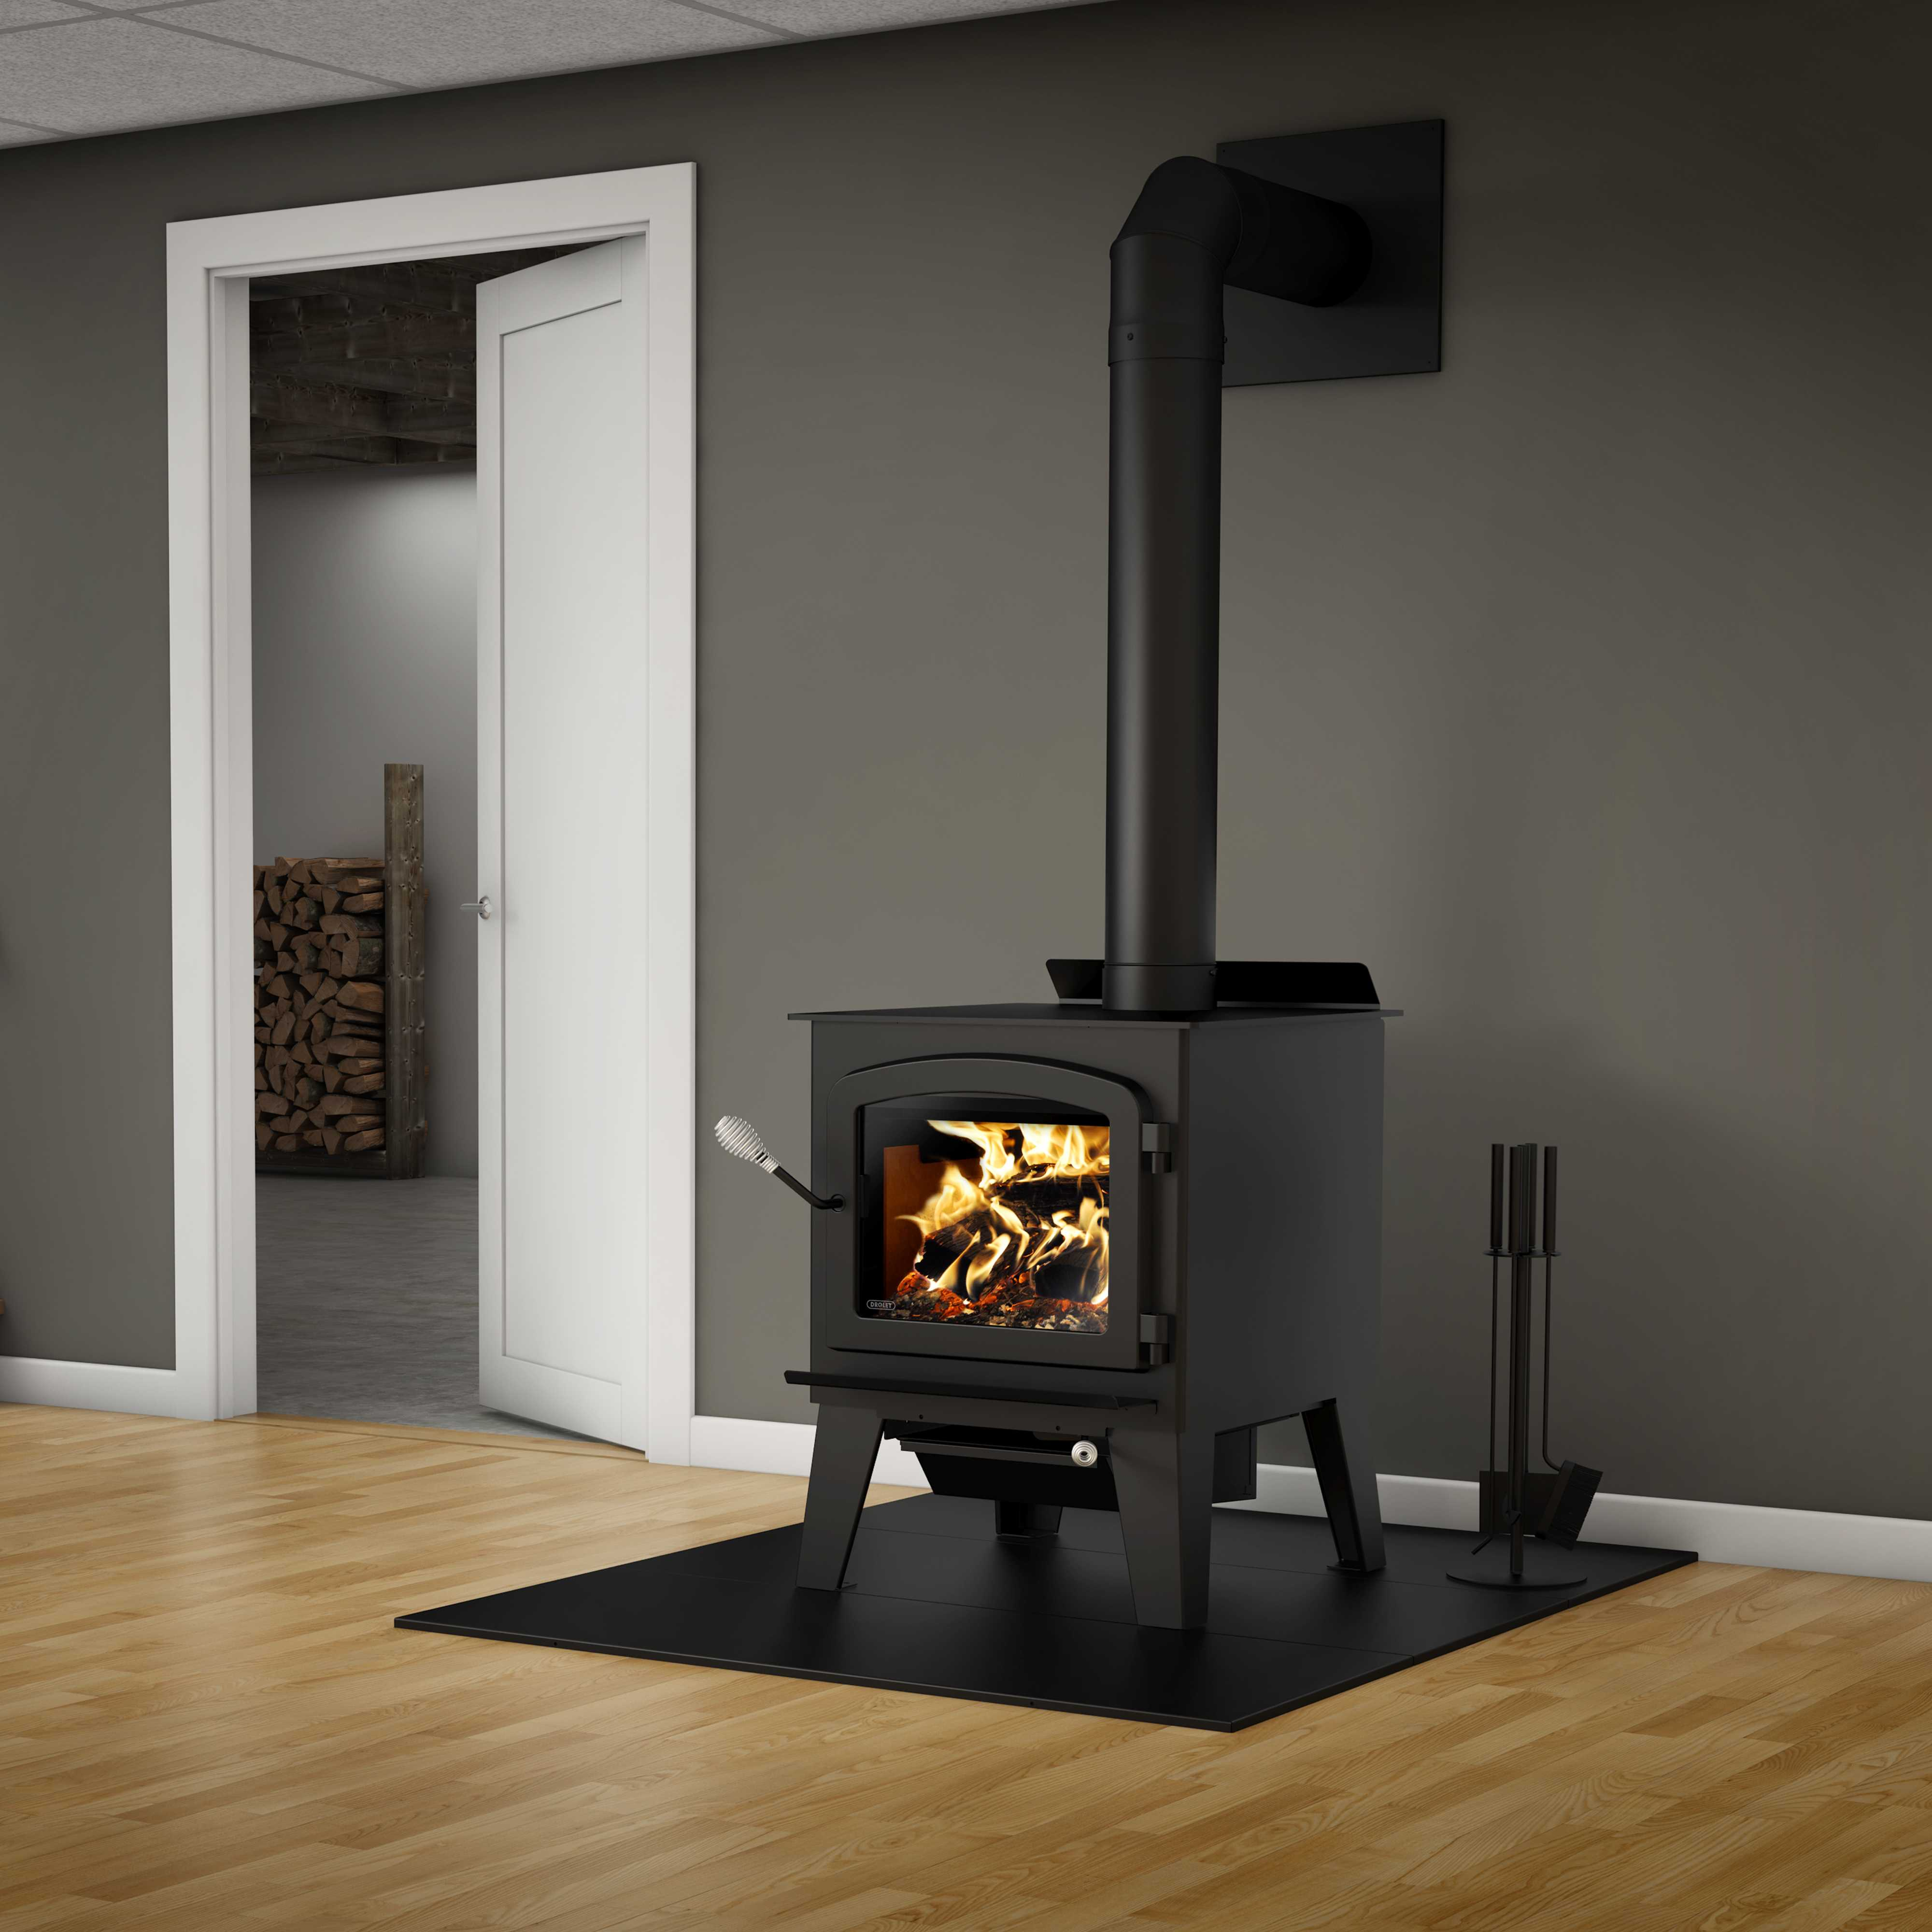stove: (768, 957, 1548, 1638)
